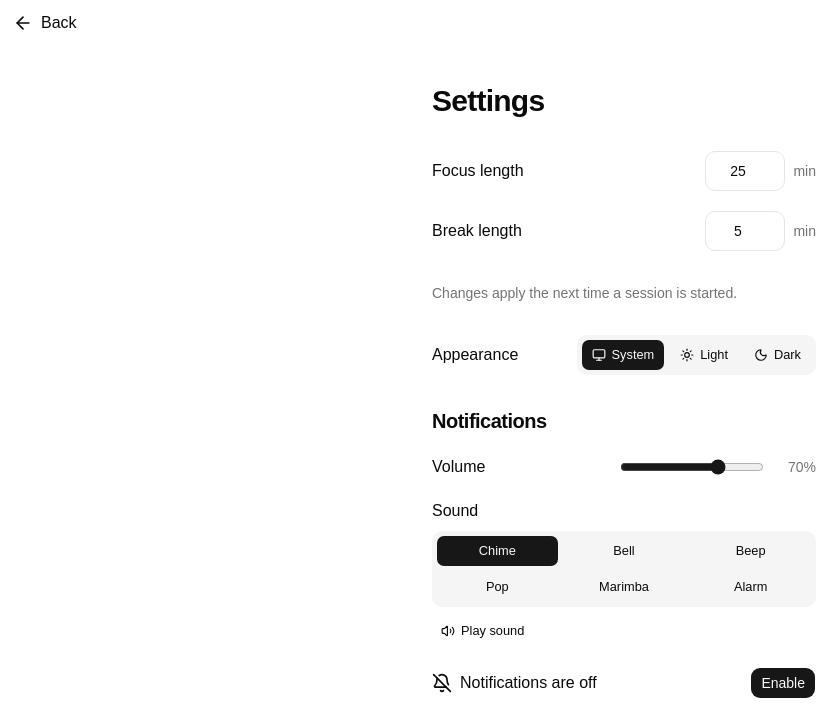
notifications › asks for permission and then says they are on
Click the button "Enable": coordinates (783, 683) [750, 667, 816, 699]
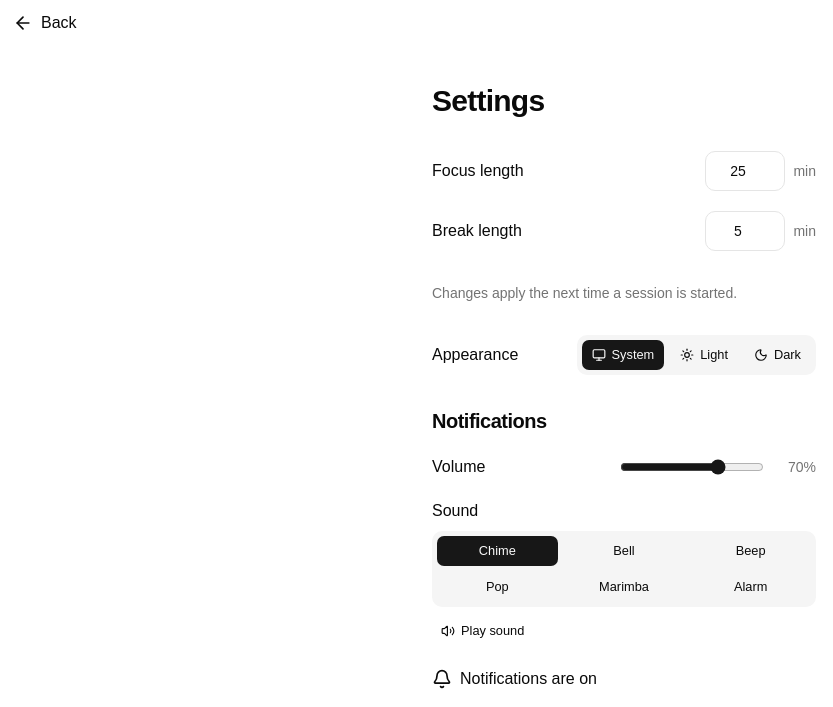
expect the text "Notifications are on" is shown: met, box [460, 667, 597, 691]
expect the button "Enable" is gone: met
